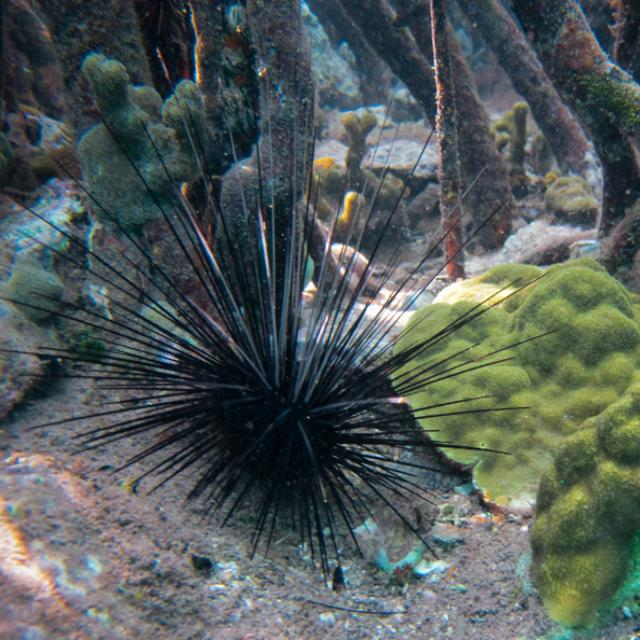Urchin: (35, 118, 541, 570)
